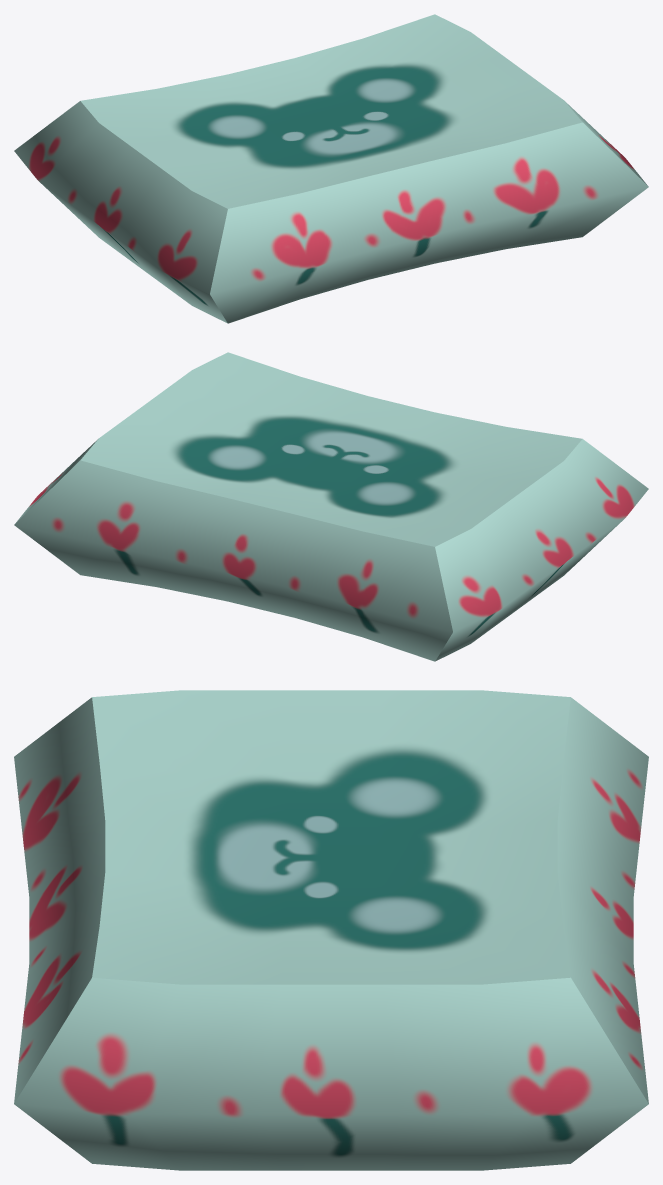
Rendered from pillow2_color.fbx.
3 views of the same model, one above another, from view 1: azimuth 30°, elevation 25°; view 2: azimuth 150°, elevation 25°; view 3: azimuth 270°, elevation 25° (orthographic). The views are drawn at different scales.
Parts seen in each view (by area): view 1: pCube1; view 2: pCube1; view 3: pCube1.
Part boxes in pixels (box(x1,y1,x2,y2)): pCube1: box(14, 14, 648, 323); pCube1: box(14, 352, 648, 661); pCube1: box(14, 690, 648, 1170).
Size of the model in its own units: 5.18 by 1.23 by 3.79.
